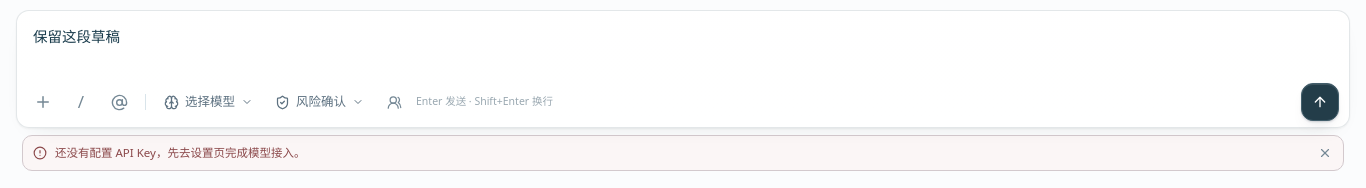
Test: InputArea › keeps a composer error compact and dismissible without clearing the draft
The image size is (1366, 188).
Click the button named "关闭错误提示": x=1325, y=153 left=1312, top=140, right=1338, bottom=166
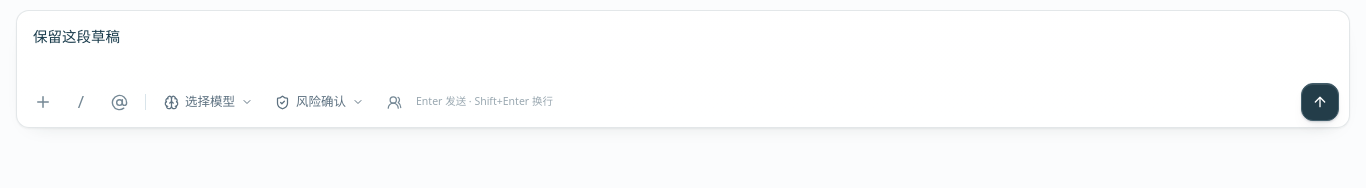
Expected: the text box named "输入消息" holds "保留这段草稿", left=17, top=11, right=1349, bottom=77
Expected: the message "还没有配置 API Key，先去设置页完成模型接入。" is gone
